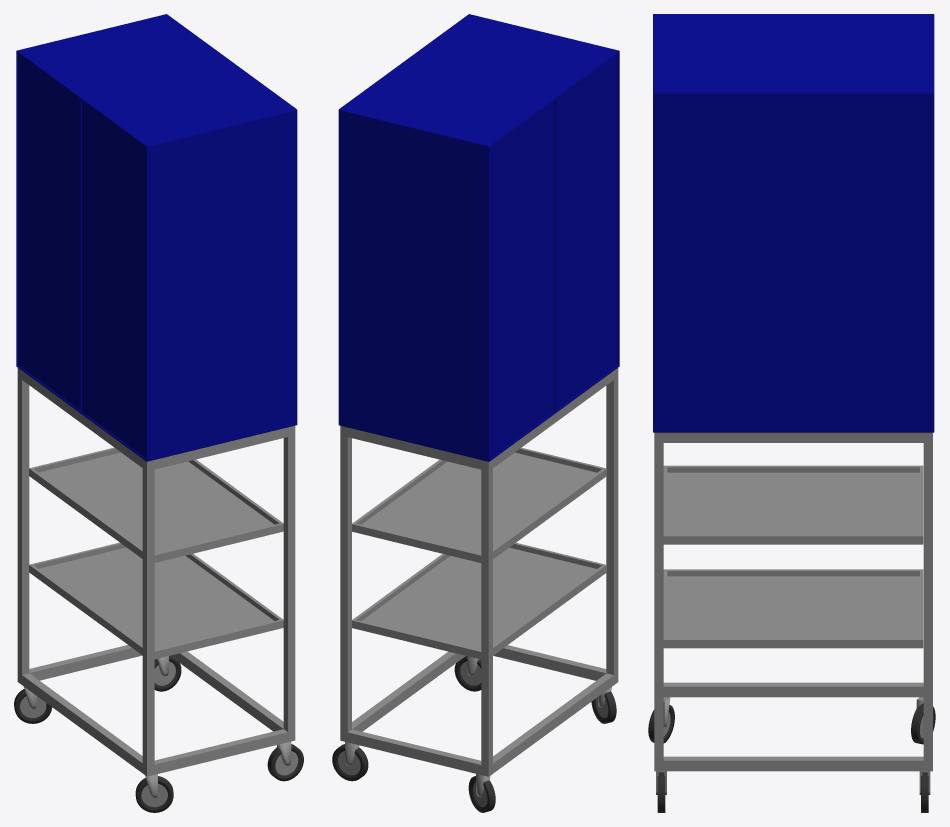
File: Toolbox.fbx
3 renders of one model, left to right at view 1: azimuth 30°, elevation 25°; view 2: azimuth 150°, elevation 25°; view 3: azimuth 270°, elevation 25°, orthographic. The views are drawn at different scales.
Visible parts, largest first — view 1: ToolBox, ToolBox_Door_Right, ToolBox_Door_Left; view 2: ToolBox, ToolBox_Door_Left, ToolBox_Door_Right; view 3: ToolBox.
Part boxes in pixels (x1,y1,x2,y2): ToolBox: [14, 14, 303, 812]; ToolBox_Door_Right: [80, 101, 145, 458]; ToolBox_Door_Left: [16, 54, 81, 411]; ToolBox: [332, 14, 619, 812]; ToolBox_Door_Left: [490, 101, 555, 458]; ToolBox_Door_Right: [554, 54, 619, 411]; ToolBox: [648, 14, 935, 812].
Size of the model in its own units: 43.31 by 170 by 61.29.
